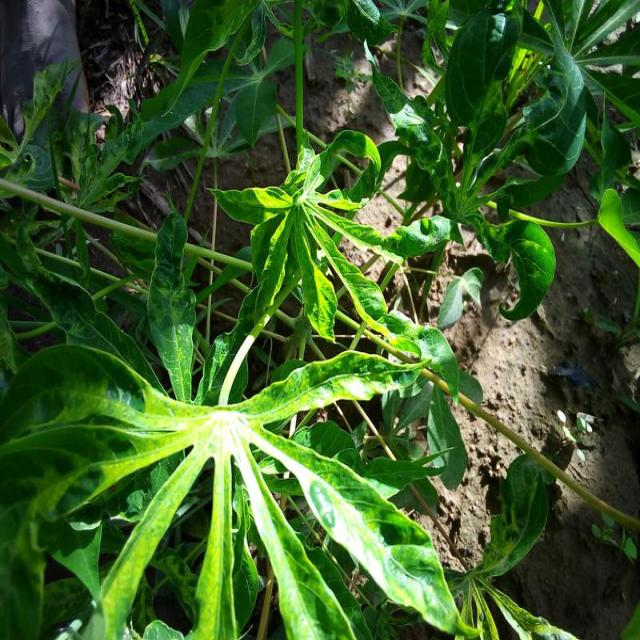cassava leaf: (2, 331, 475, 638)
